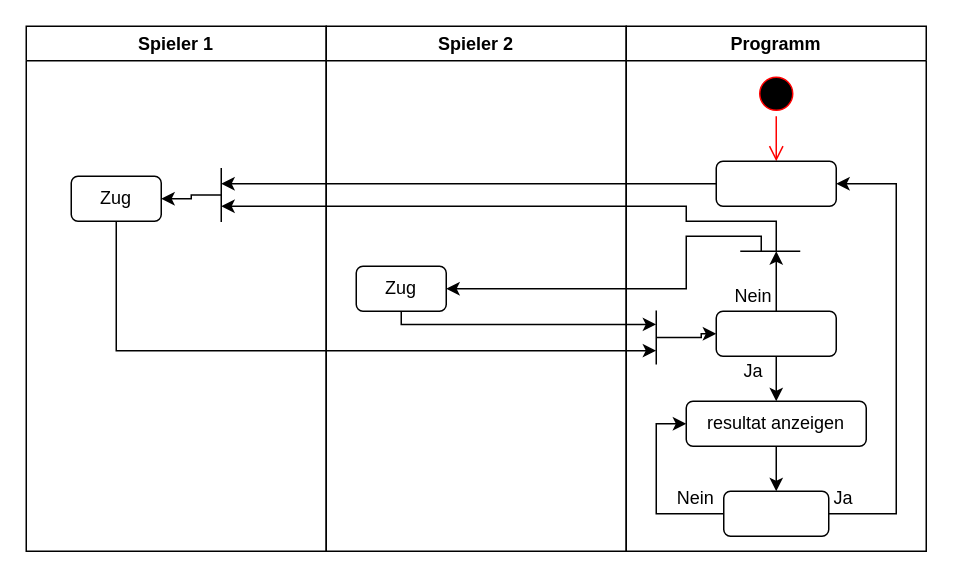
The diagram is 953 pixels wide and 578 high, and some of its shapes have lost their labels. Each missing label, with the box of its shape:
Eingabe?: (722, 490, 829, 536)
startet: (715, 160, 836, 206)
vorbei?: (715, 310, 836, 356)
